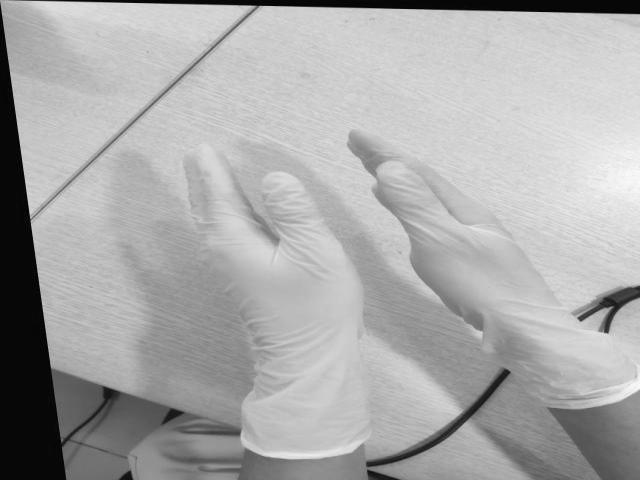gloved: (349, 128, 584, 322), (180, 143, 365, 369)
